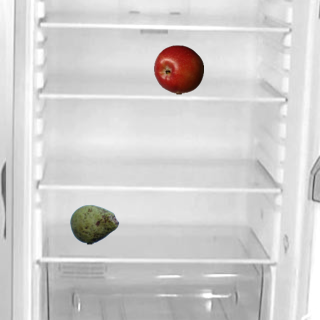Apple Braeburn: (153, 44, 203, 94)
Pear Stone: (69, 199, 119, 249)
